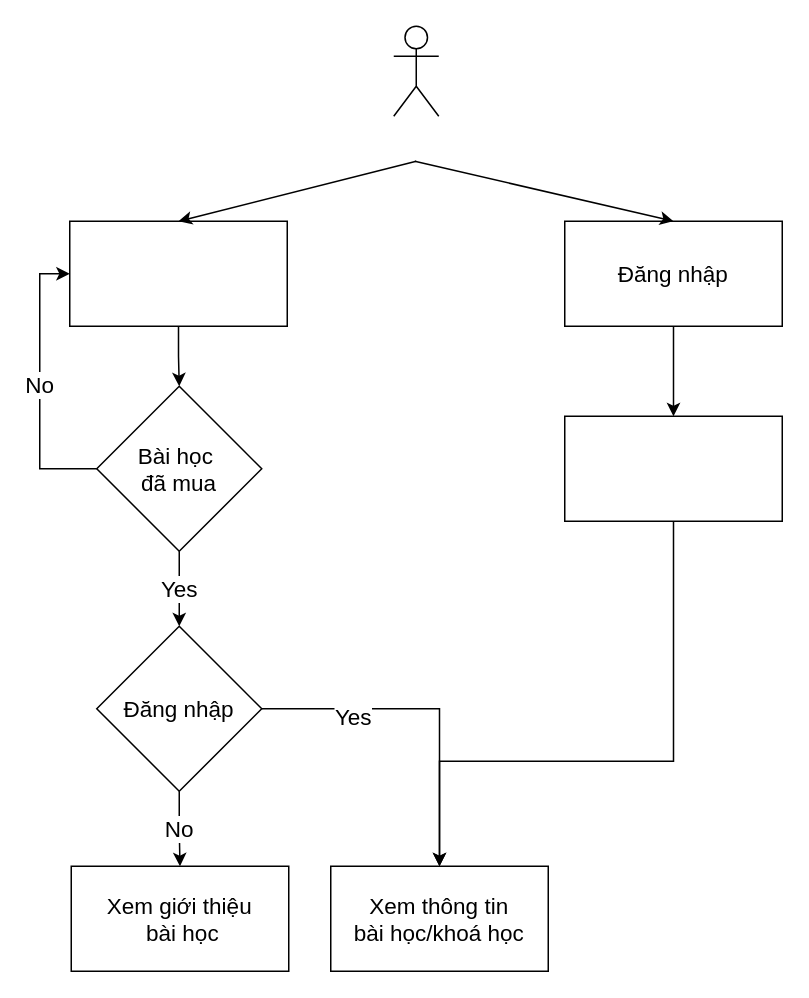
Some shapes in this 809 by 998 pixel diagram are drawn without their labels. Each missing label, with the centre of its shape:
"Người dùng" belongs at point 415,70.
"Quản lý bài học/khoá học" belongs at point 672,468.
"Tìm kiếm bài học/khoá học" belongs at point 177,273.
